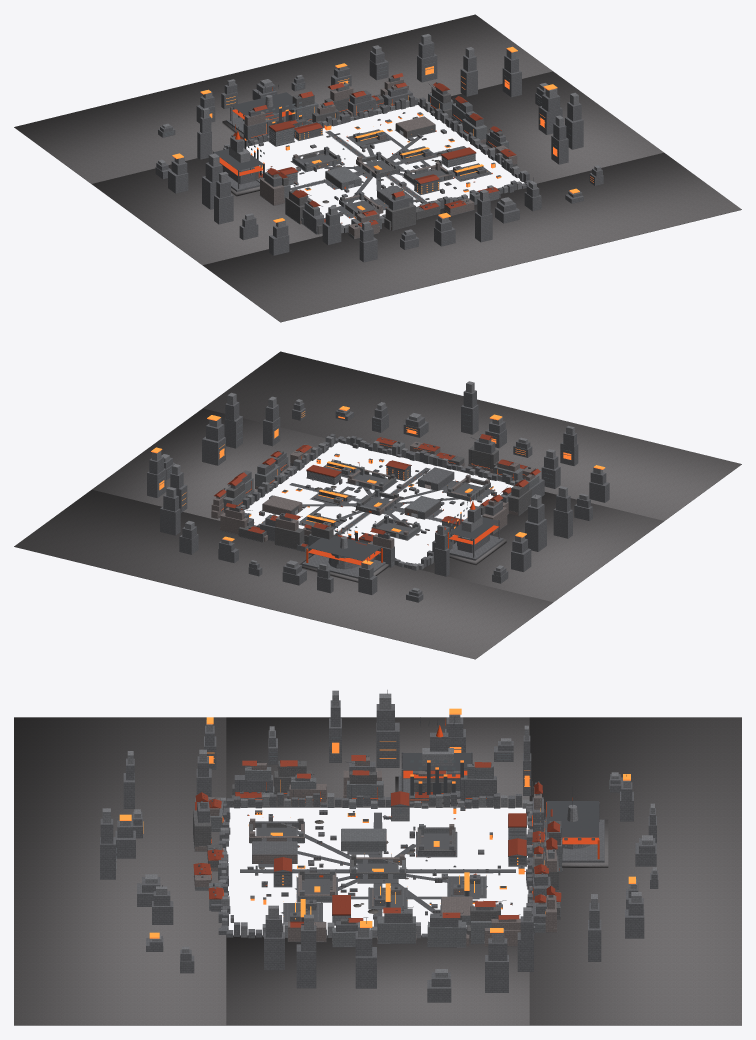
3 views of the same model, one above another, from view 1: azimuth 30°, elevation 25°; view 2: azimuth 150°, elevation 25°; view 3: azimuth 270°, elevation 25° (orthographic). The views are drawn at different scales.
Parts seen in each view (by area): view 1: HB_z02_LOD0_terrain, HB_z02_LOD0_wall_alt, HB_z02_LOD0_wall, HB_z02_LOD0_wall_weathered, HB_z02_LOD0_wall_warm, HB_z02_LOD0_wall_cool, HB_z02_LOD0_road, HB_z02_LOD0_roof, HB_z02_LOD0_trim, HB_z02_LOD0_emissive, HB_z02_LOD0_LANDMARK_0_trim, HB_z02_LOD0_LANDMARK_1_wall_alt (+1 smaller); view 2: HB_z02_LOD0_terrain, HB_z02_LOD0_wall_alt, HB_z02_LOD0_wall_warm, HB_z02_LOD0_wall, HB_z02_LOD0_wall_weathered, HB_z02_LOD0_wall_cool, HB_z02_LOD0_road, HB_z02_LOD0_roof, HB_z02_LOD0_trim, HB_z02_LOD0_emissive, HB_z02_LOD0_LANDMARK_0_trim, HB_z02_LOD0_LANDMARK_1_wall_alt (+2 smaller); view 3: HB_z02_LOD0_terrain, HB_z02_LOD0_wall_alt, HB_z02_LOD0_wall_cool, HB_z02_LOD0_road, HB_z02_LOD0_wall, HB_z02_LOD0_wall_warm, HB_z02_LOD0_roof, HB_z02_LOD0_wall_weathered, HB_z02_LOD0_trim, HB_z02_LOD0_emissive, HB_z02_LOD0_LANDMARK_0_trim, HB_z02_LOD0_LANDMARK_1_trim (+3 smaller).
Boxes of the visible parts, left/top/right/bottom form: HB_z02_LOD0_terrain: left=14, top=14, right=741, bottom=322; HB_z02_LOD0_wall_alt: left=155, top=41, right=603, bottom=262; HB_z02_LOD0_wall: left=158, top=34, right=601, bottom=235; HB_z02_LOD0_wall_weathered: left=255, top=77, right=517, bottom=234; HB_z02_LOD0_wall_warm: left=244, top=77, right=517, bottom=238; HB_z02_LOD0_wall_cool: left=231, top=83, right=508, bottom=228; HB_z02_LOD0_road: left=290, top=120, right=491, bottom=218; HB_z02_LOD0_roof: left=233, top=73, right=516, bottom=226; HB_z02_LOD0_trim: left=212, top=46, right=533, bottom=227; HB_z02_LOD0_emissive: left=172, top=46, right=593, bottom=222; HB_z02_LOD0_LANDMARK_0_trim: left=232, top=85, right=305, bottom=124; HB_z02_LOD0_LANDMARK_1_wall_alt: left=213, top=136, right=264, bottom=191; HB_z02_LOD0_terrain: left=14, top=351, right=741, bottom=659; HB_z02_LOD0_wall_alt: left=147, top=390, right=609, bottom=602; HB_z02_LOD0_wall_warm: left=211, top=441, right=535, bottom=548; HB_z02_LOD0_wall: left=152, top=381, right=602, bottom=592; HB_z02_LOD0_wall_weathered: left=226, top=445, right=531, bottom=549; HB_z02_LOD0_wall_cool: left=223, top=436, right=539, bottom=567; HB_z02_LOD0_road: left=269, top=461, right=493, bottom=539; HB_z02_LOD0_roof: left=214, top=434, right=540, bottom=546; HB_z02_LOD0_trim: left=220, top=399, right=535, bottom=561; HB_z02_LOD0_emissive: left=151, top=406, right=605, bottom=564; HB_z02_LOD0_LANDMARK_0_trim: left=308, top=526, right=381, bottom=560; HB_z02_LOD0_LANDMARK_1_wall_alt: left=449, top=506, right=503, bottom=560; HB_z02_LOD0_terrain: left=14, top=717, right=741, bottom=1025; HB_z02_LOD0_wall_alt: left=100, top=700, right=658, bottom=1002; HB_z02_LOD0_wall_cool: left=195, top=764, right=562, bottom=946; HB_z02_LOD0_road: left=240, top=812, right=515, bottom=926; HB_z02_LOD0_wall: left=102, top=690, right=656, bottom=977; HB_z02_LOD0_wall_warm: left=194, top=757, right=556, bottom=946; HB_z02_LOD0_roof: left=193, top=755, right=561, bottom=927; HB_z02_LOD0_wall_weathered: left=193, top=761, right=561, bottom=946; HB_z02_LOD0_trim: left=162, top=690, right=626, bottom=926; HB_z02_LOD0_emissive: left=119, top=708, right=635, bottom=938; HB_z02_LOD0_LANDMARK_0_trim: left=540, top=786, right=598, bottom=846; HB_z02_LOD0_LANDMARK_1_trim: left=402, top=717, right=471, bottom=797.
Bounding box in the file's own units: 720 × 83.56 × 720.
14 materials, 12 textured.
